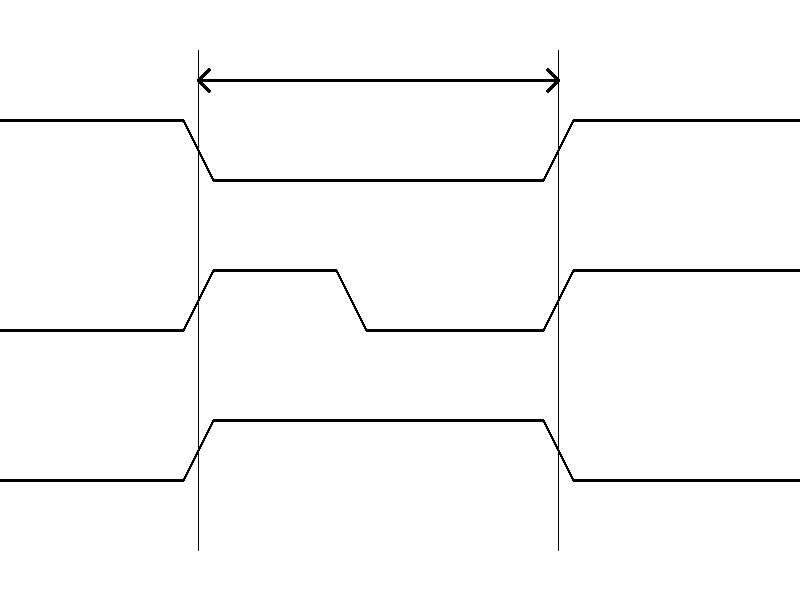double_arrow: (198, 65, 558, 95)
